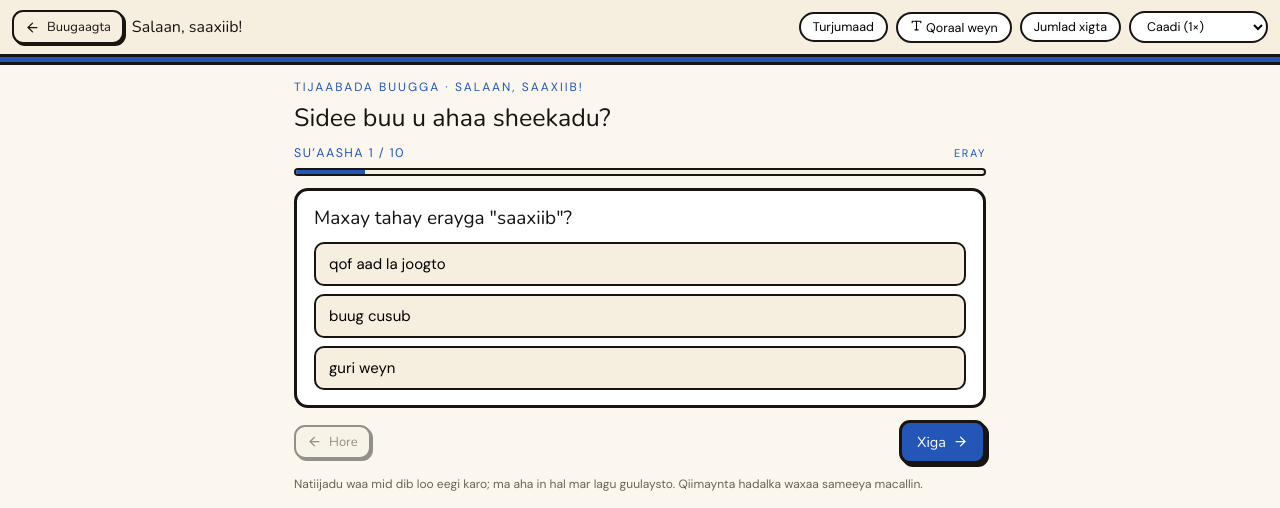
Test case: end-of-book quiz › asks one question at a time, grades objectively and allows retries
Earlier steps of the test are not shown.
Later steps or results of the test are not shown.
Expected: the number of elements with class "bk-q-card" is 1, [294, 188, 986, 408]
Expected: the text "Su’aasha 1 / 10" is shown once, [294, 145, 405, 161]
Step 1. Click the button "qof aad la joogto" → (387,264), box [314, 242, 966, 286]
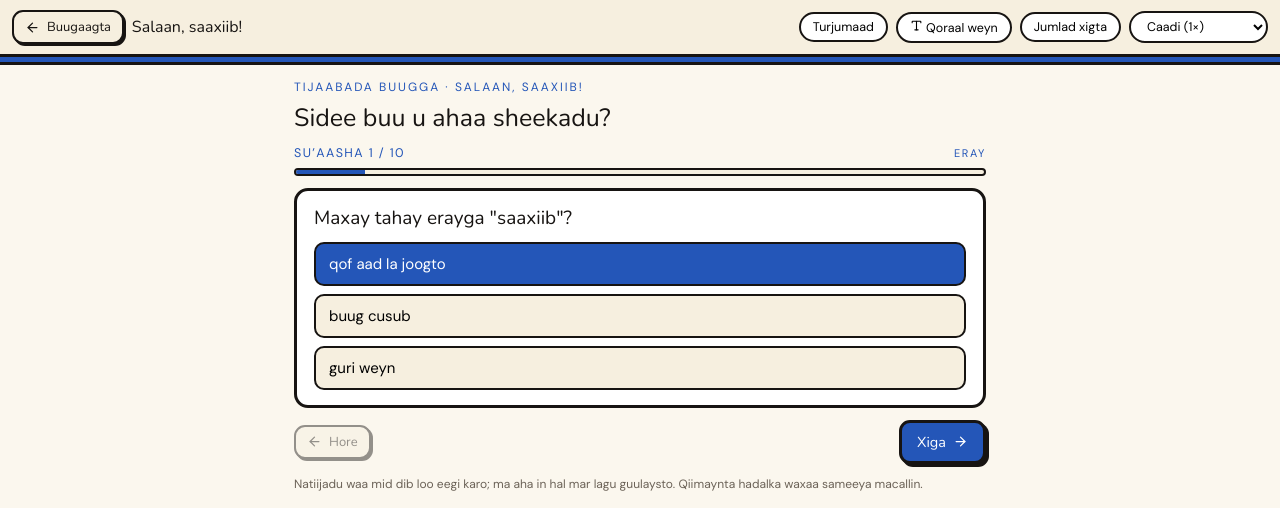
Step 2. Click the button "Xiga" → (942,442), box [899, 420, 986, 464]
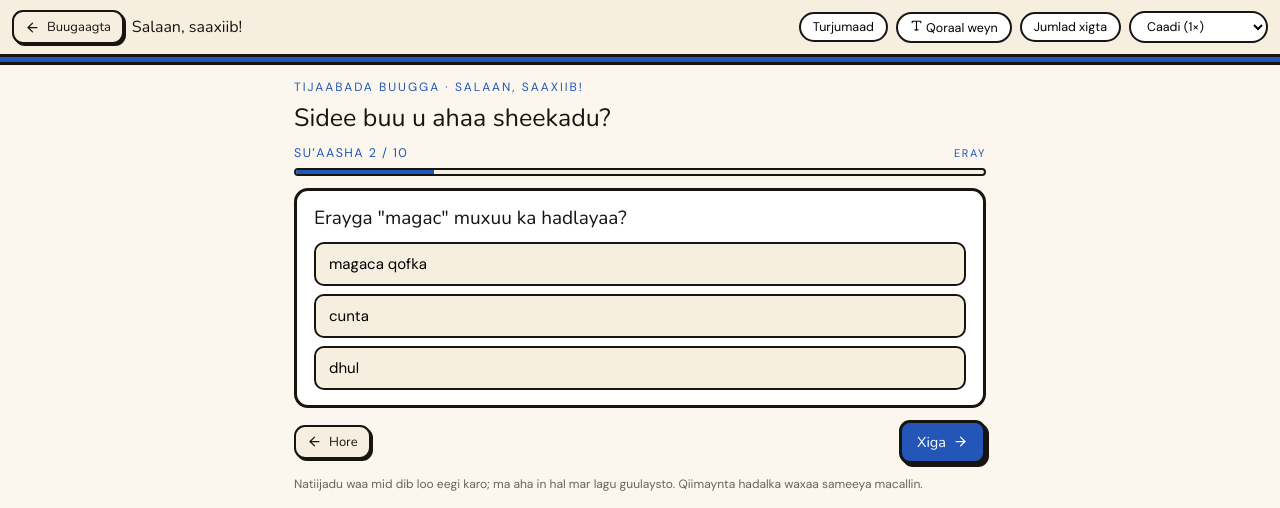
Expected: the number of elements with class "bk-q-card" is 1, [294, 188, 986, 408]
Step 3. Click the button "magaca qofka" → (378,264), box [314, 242, 966, 286]
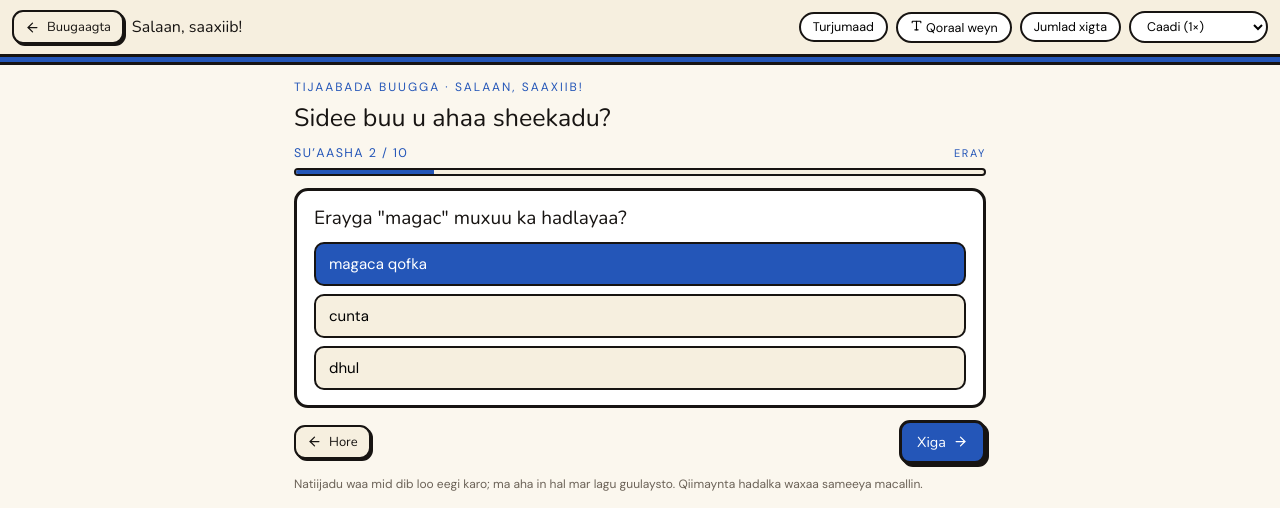
Step 4. Click the button "Xiga" → (942,442), box [899, 420, 986, 464]
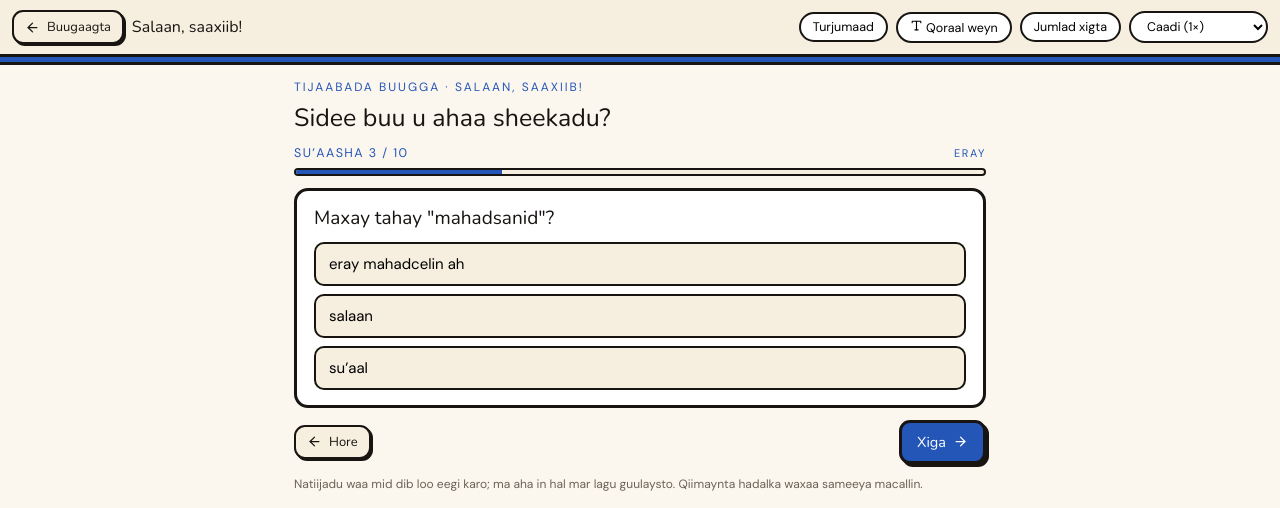
Expected: the number of elements with class "bk-q-card" is 1, [294, 188, 986, 408]
Step 5. Click the button "eray mahadcelin ah" → (397,264), box [314, 242, 966, 286]
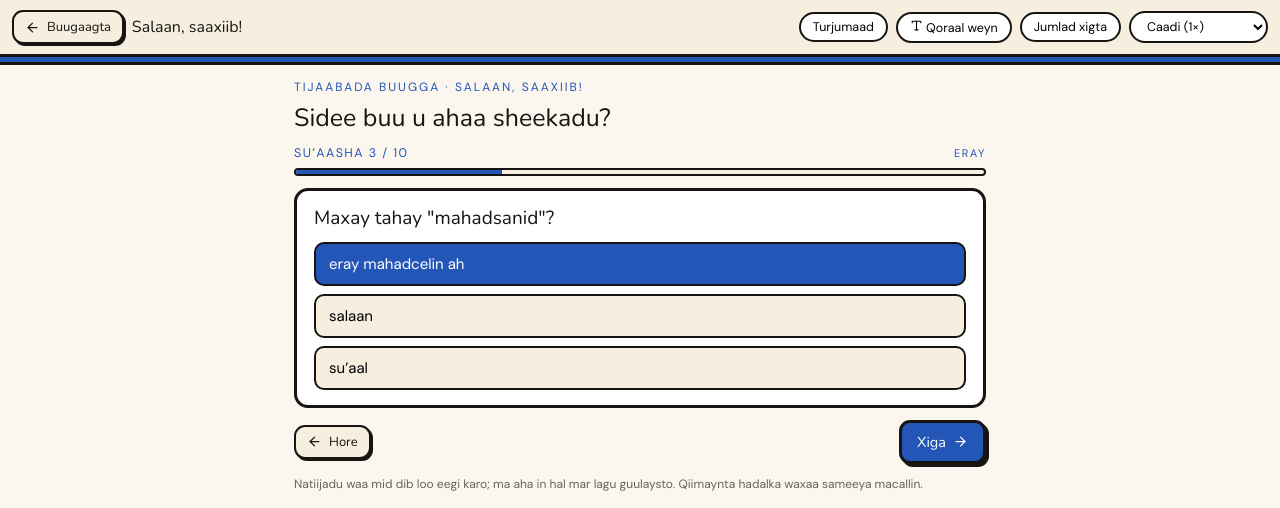
Step 6. Click the button "Xiga" → (942,442), box [899, 420, 986, 464]
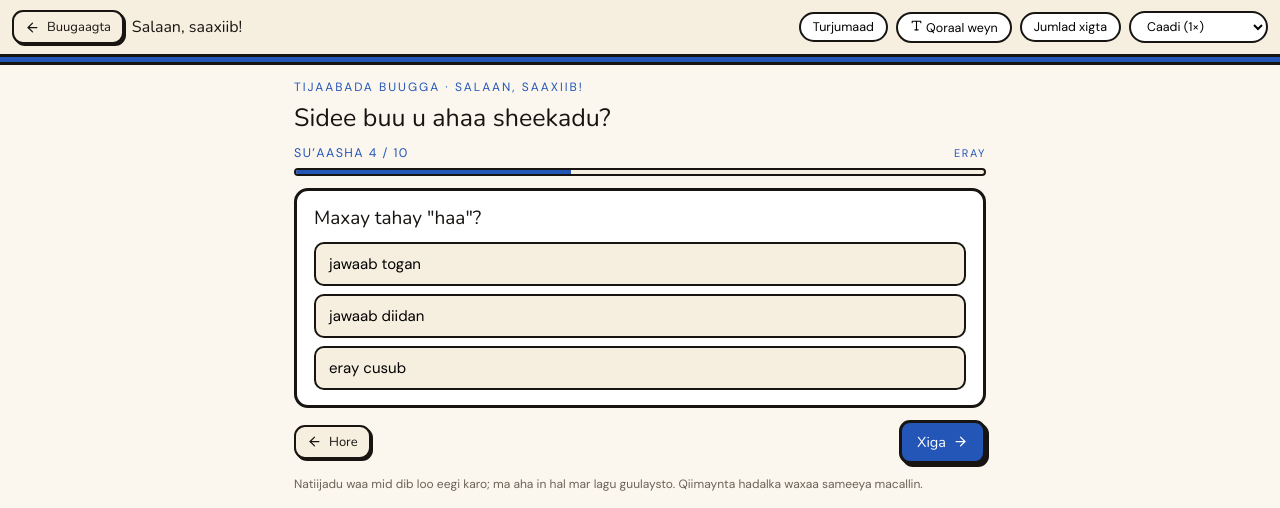
Expected: the number of elements with class "bk-q-card" is 1, [294, 188, 986, 408]
